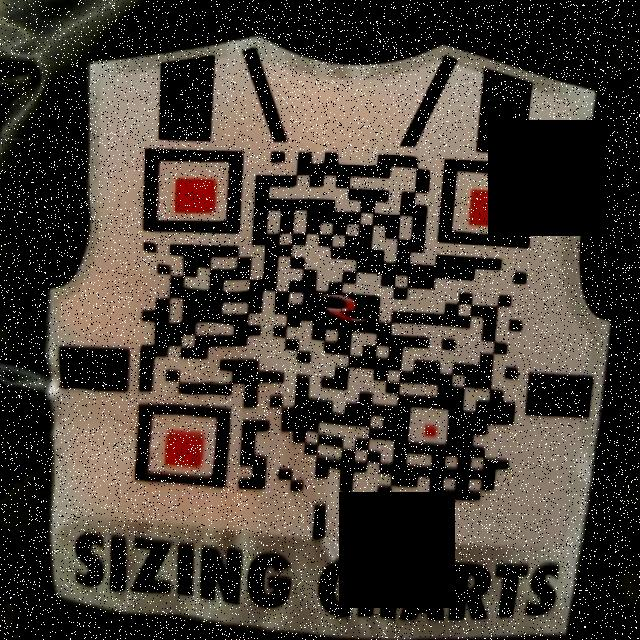QR_CODE: (112, 133, 546, 516)
